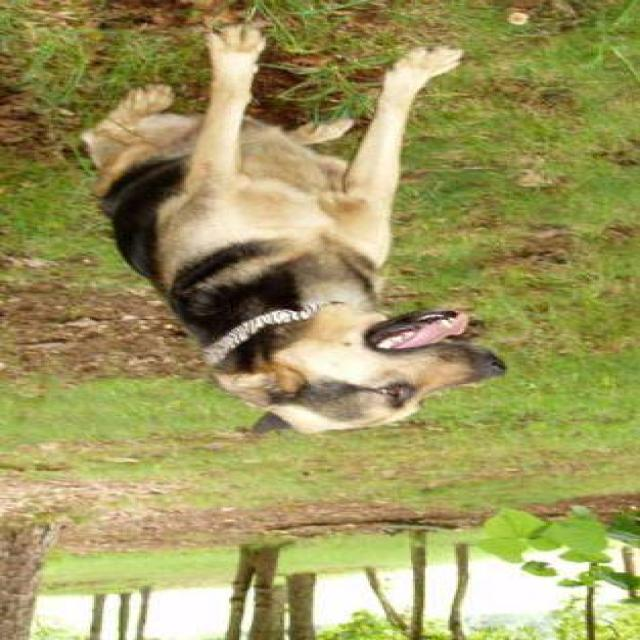dog: (44, 0, 522, 467)
